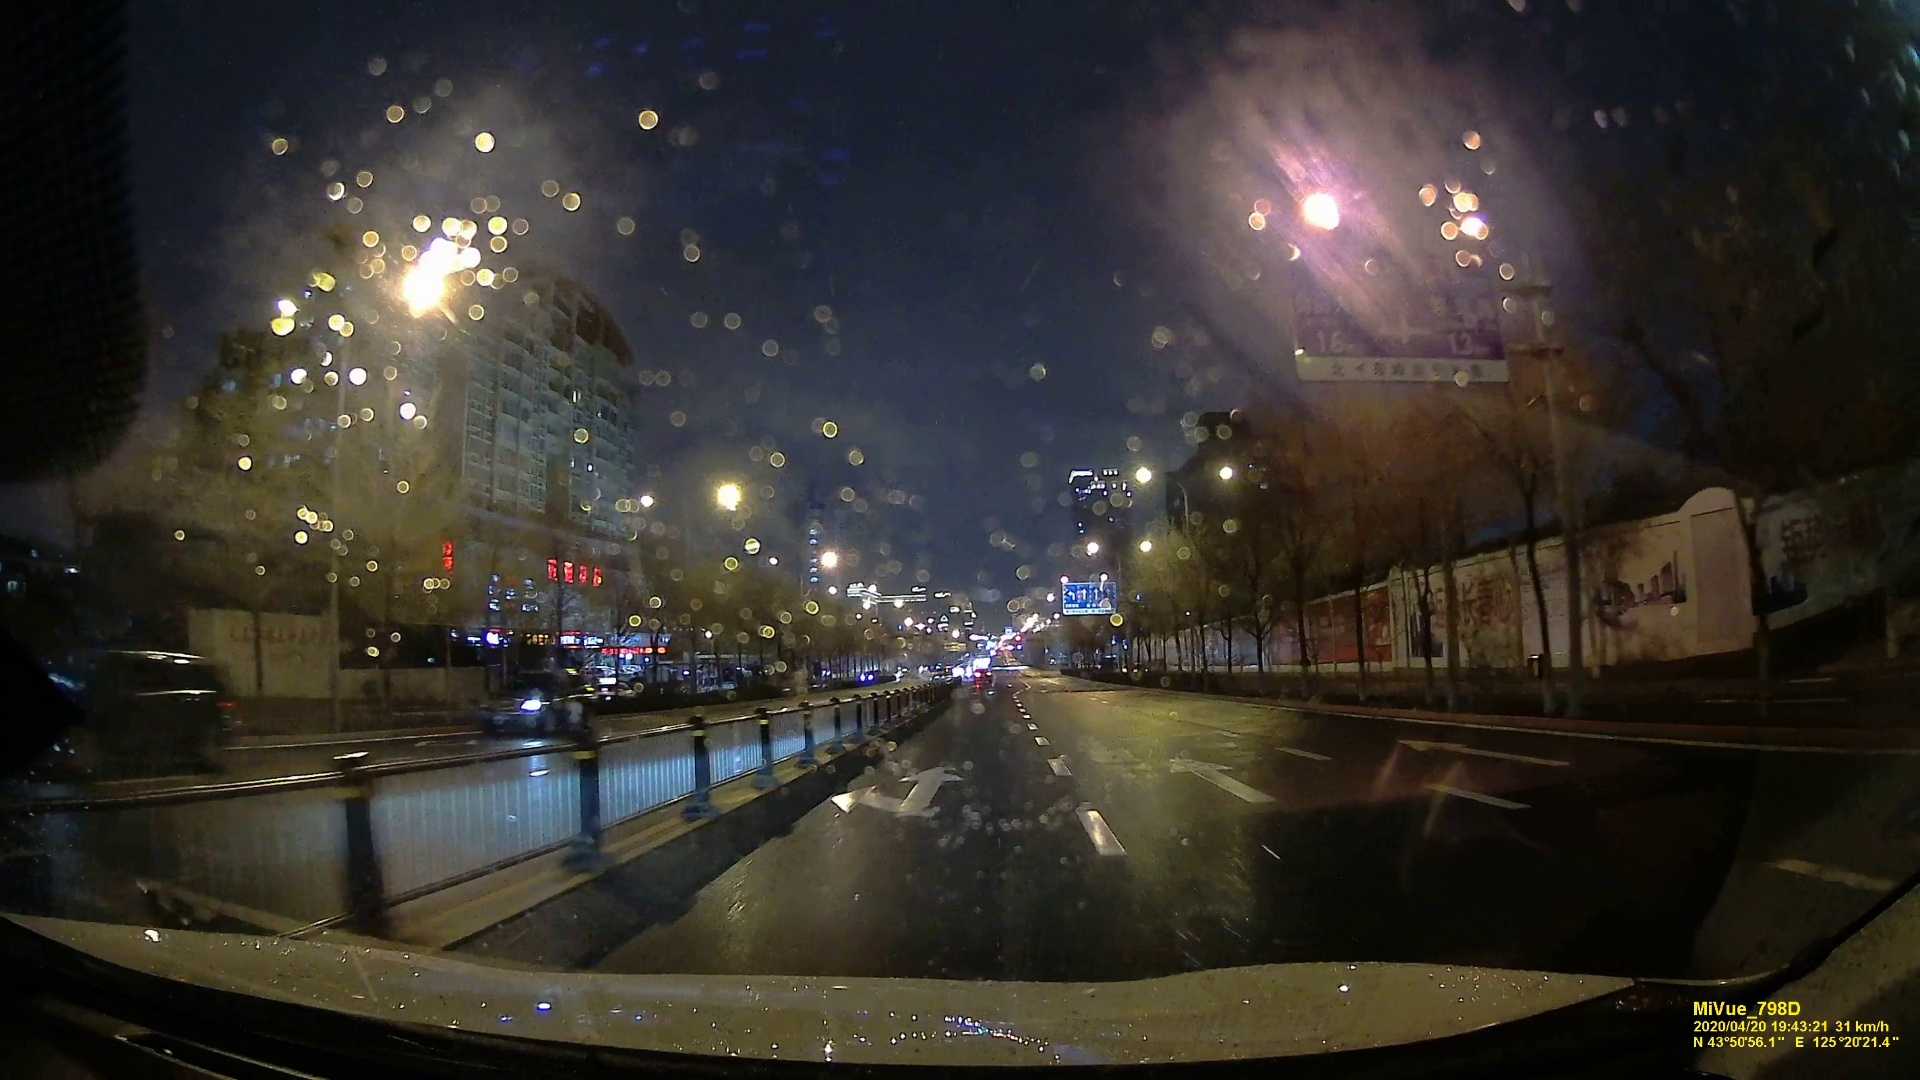traffic_sign: (1291, 256, 1509, 382), (1064, 582, 1116, 612)
